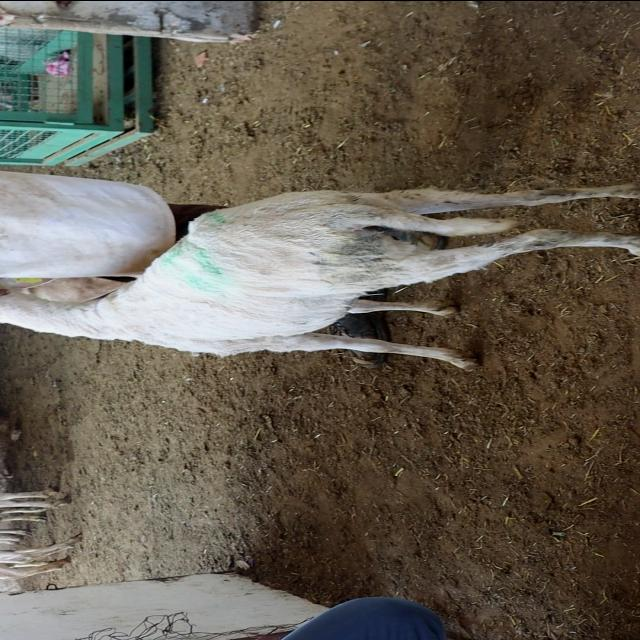Score_2: (0, 183, 639, 369)
